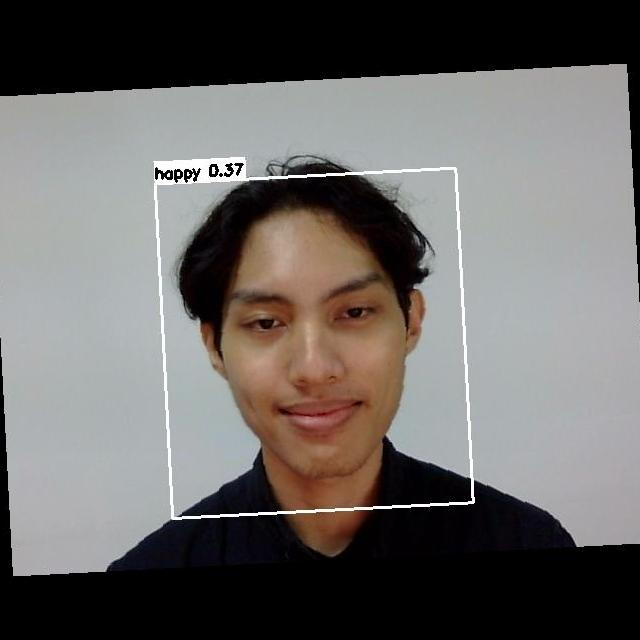Happy: (211, 256, 422, 453)
